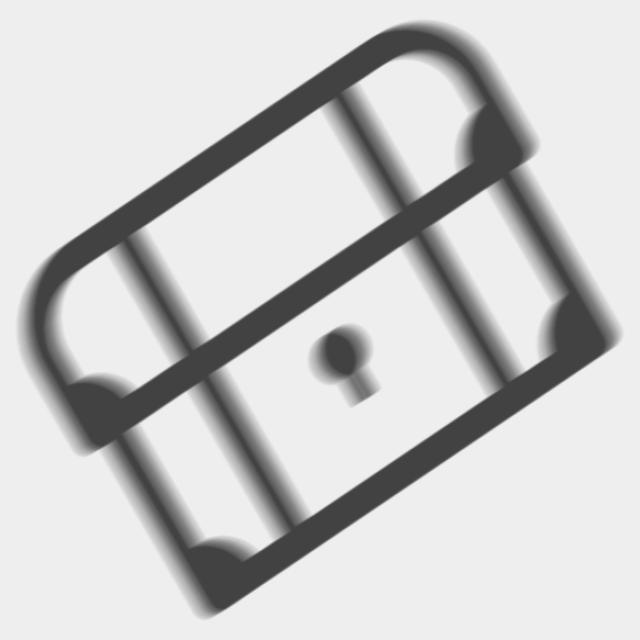treasure_box: (6, 17, 631, 634)
